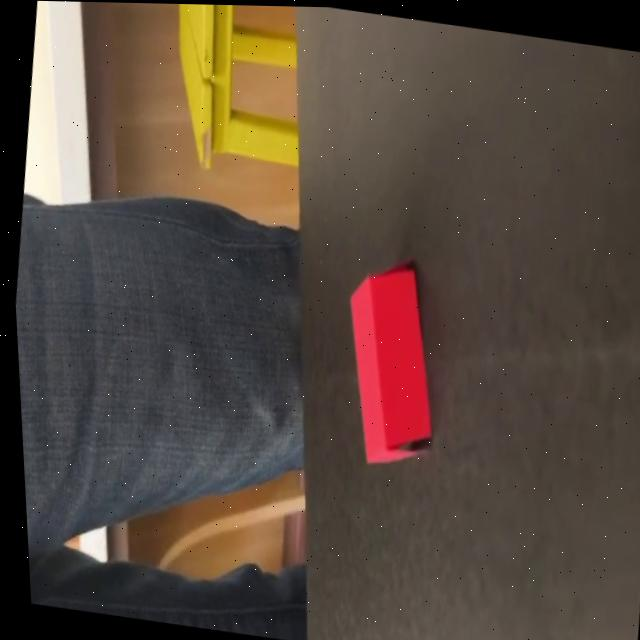red block: (326, 254, 454, 475)
